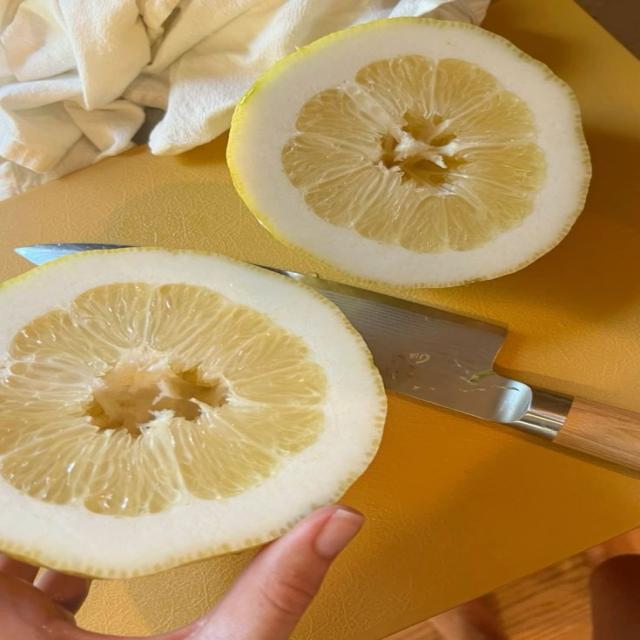lemon: (0, 250, 385, 577), (229, 19, 590, 286)
